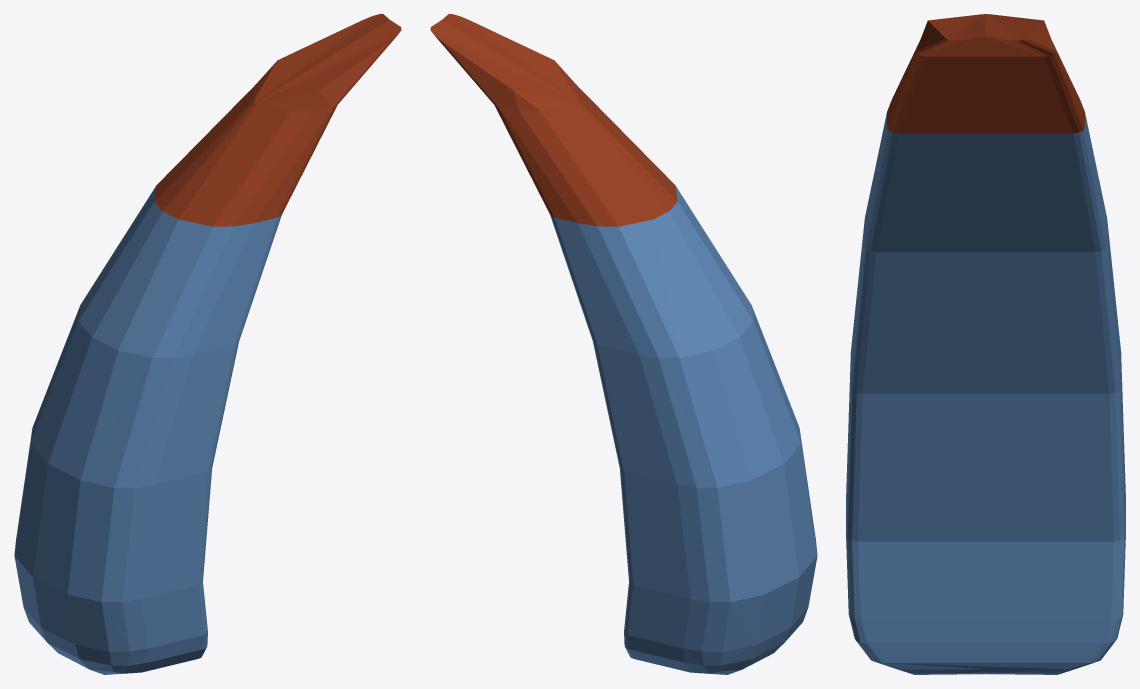
The model's file is character_monsterArmRight.obj.
The picture shows the model from 3 angles, left to right: view 1: azimuth 30°, elevation 25°; view 2: azimuth 150°, elevation 25°; view 3: azimuth 270°, elevation 25°; orthographic projection. The views are drawn at different scales.
Visible parts, largest first — view 1: character_monsterArmRight_Cube.033; view 2: character_monsterArmRight_Cube.033; view 3: character_monsterArmRight_Cube.033.
Part boxes in pixels (<box>): character_monsterArmRight_Cube.033: <box>14,14,401,674</box>; character_monsterArmRight_Cube.033: <box>430,14,817,674</box>; character_monsterArmRight_Cube.033: <box>846,14,1125,674</box>.
Size of the model in its own units: 0.3802 by 0.5708 by 0.1812.
